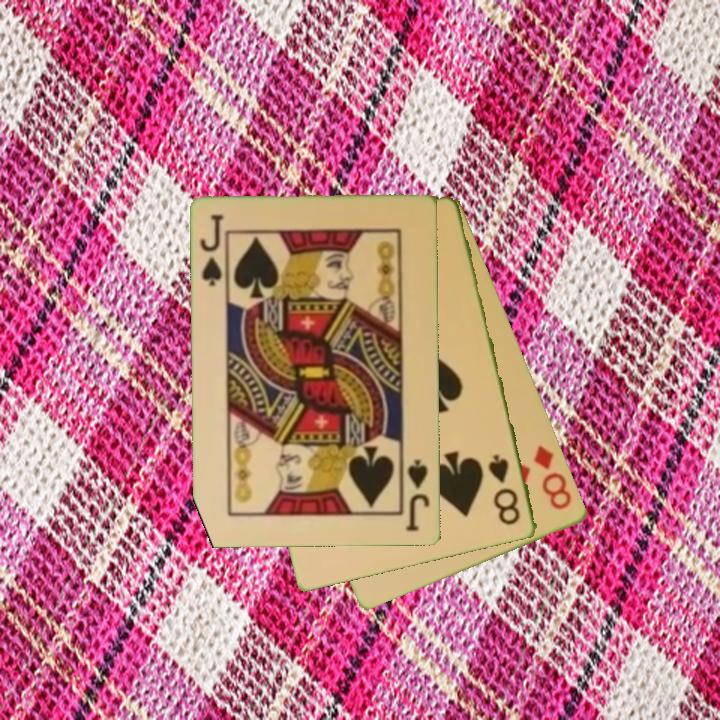8d: (531, 442, 575, 513)
8s: (485, 451, 524, 529)
Js: (402, 456, 433, 534), (197, 211, 227, 289)
